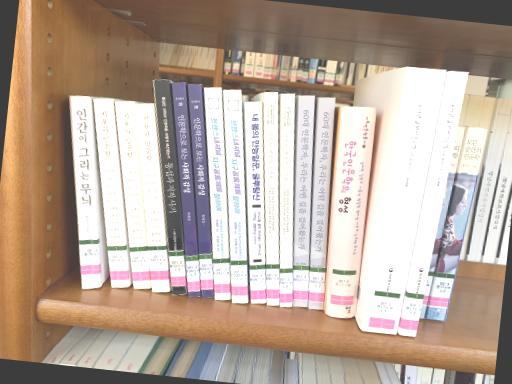book-spine: (361, 66, 446, 334), (399, 70, 468, 336), (426, 127, 487, 320), (325, 106, 376, 318), (418, 126, 464, 318), (153, 79, 186, 294), (93, 98, 128, 287), (134, 103, 169, 292), (115, 101, 150, 289), (172, 82, 200, 296), (204, 87, 230, 299), (309, 97, 335, 309), (71, 96, 99, 289), (188, 84, 213, 298), (223, 89, 247, 303), (294, 95, 314, 306), (246, 101, 265, 303), (264, 91, 279, 305), (280, 93, 294, 307)
